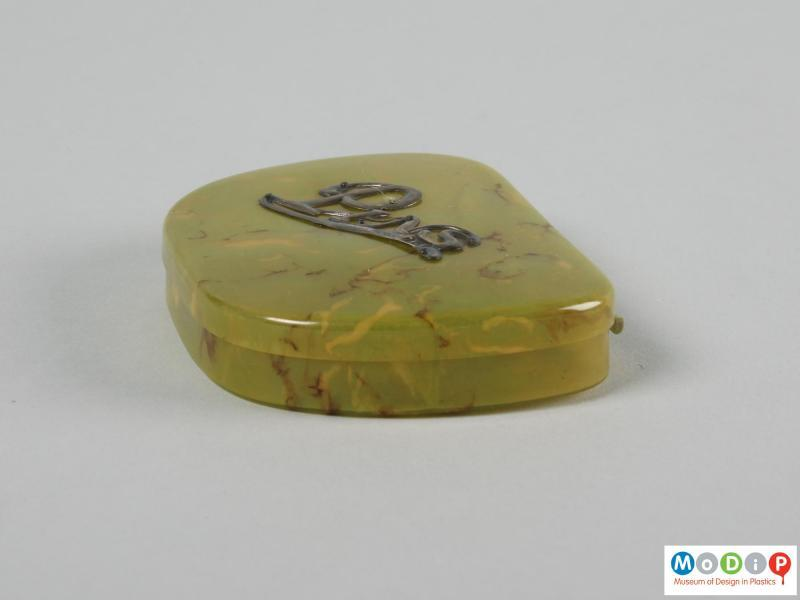metal: (163, 155, 622, 416)
